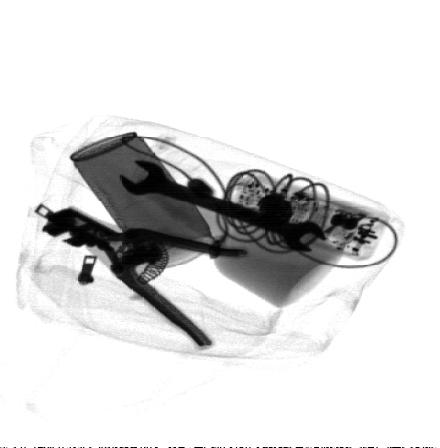Pliers: (41, 206, 249, 351)
Wrench: (119, 159, 328, 250)
